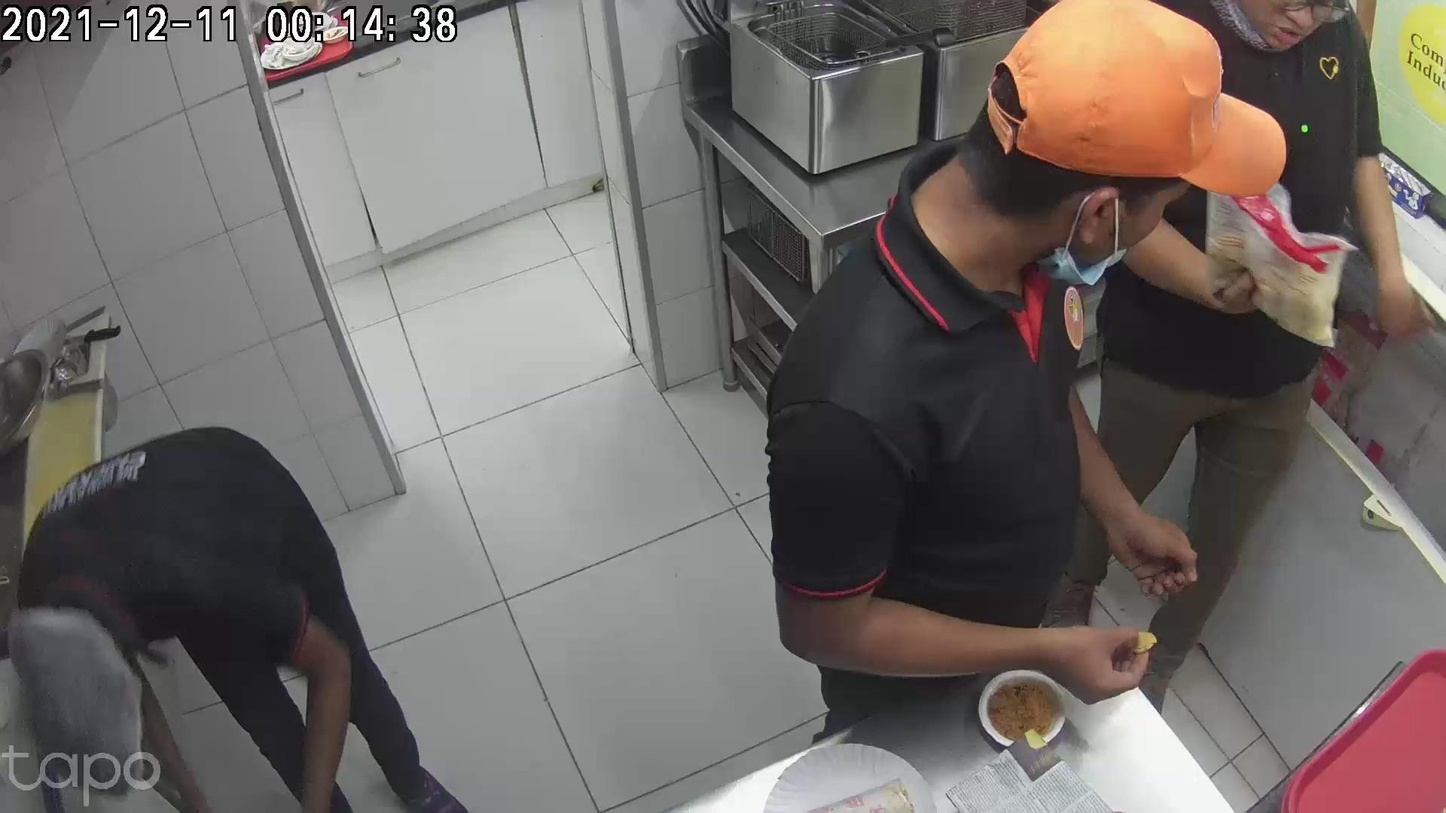gloves: (877, 619, 999, 750)
no_gloves: (1033, 579, 1116, 716)
